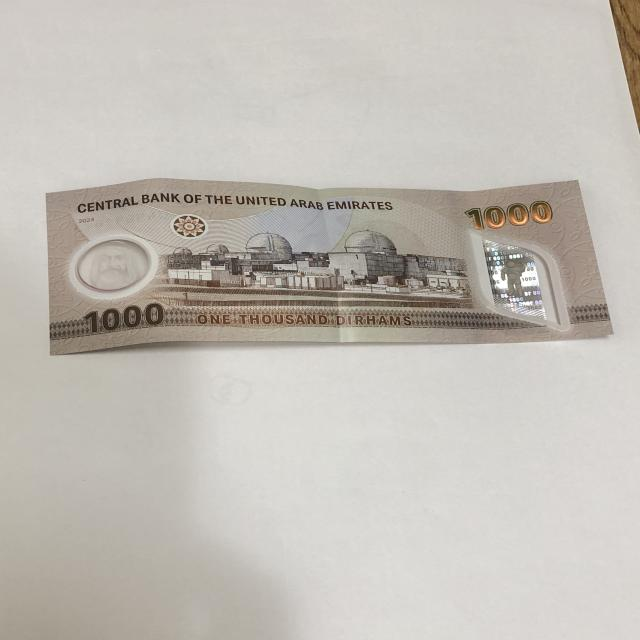1000_AED: (41, 173, 617, 355)
